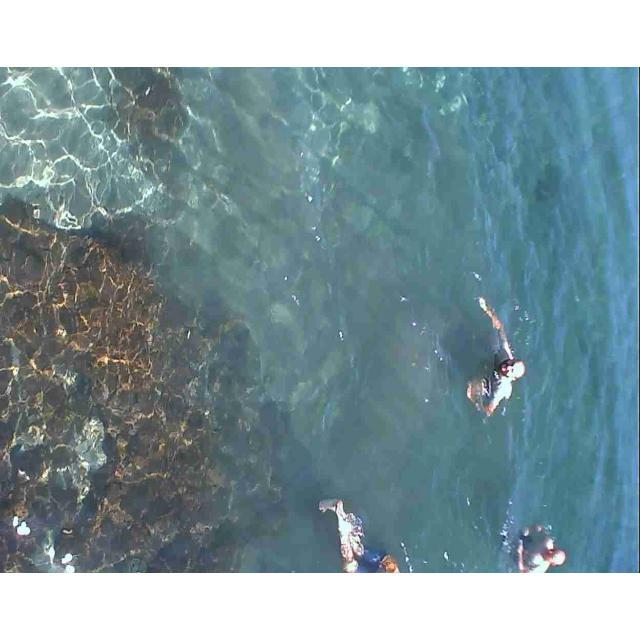human: (472, 290, 523, 431)
